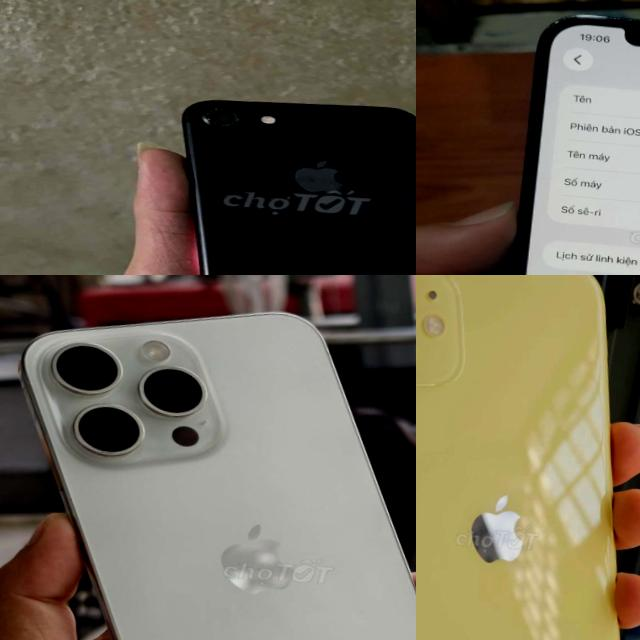gen_11: (416, 275, 619, 640)
gen_12_13: (484, 2, 640, 275)
gen_15: (0, 310, 416, 640)
gen_7_8: (159, 86, 416, 275)
